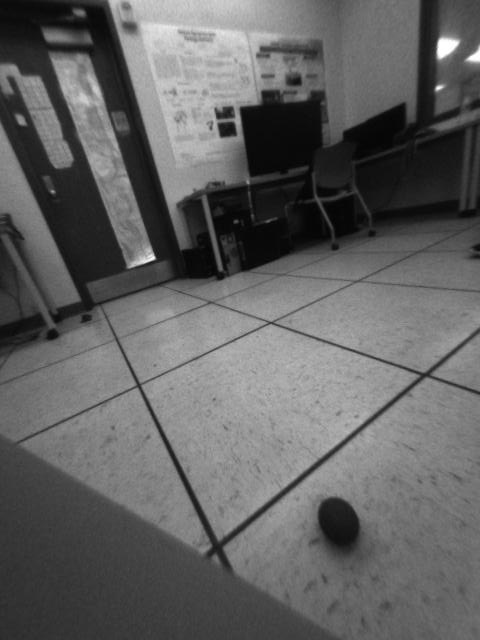dogtoy: (308, 490, 372, 556)
